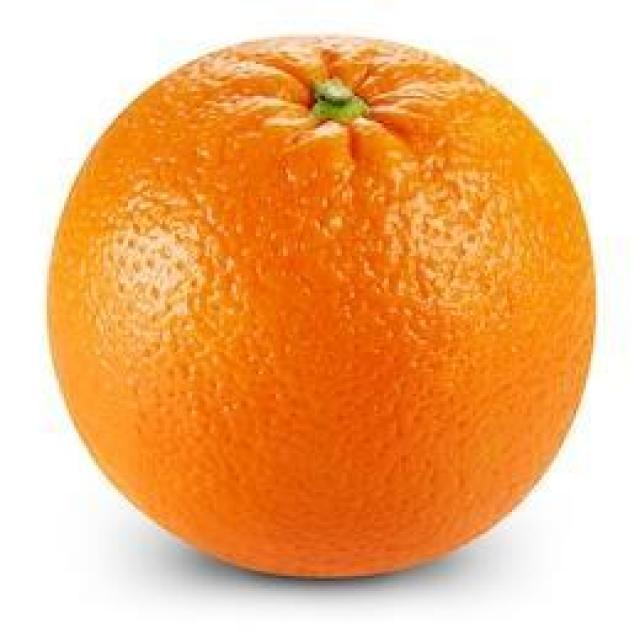orange: (52, 29, 602, 584)
